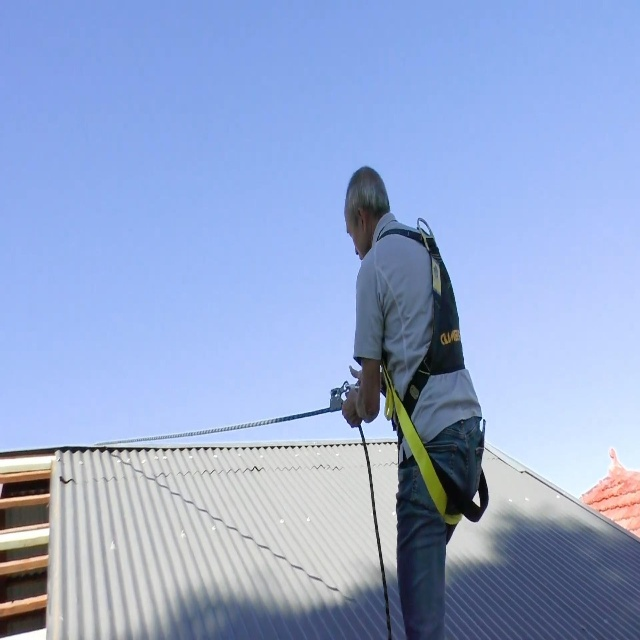Arnes_seguridad: (358, 204, 490, 537)
